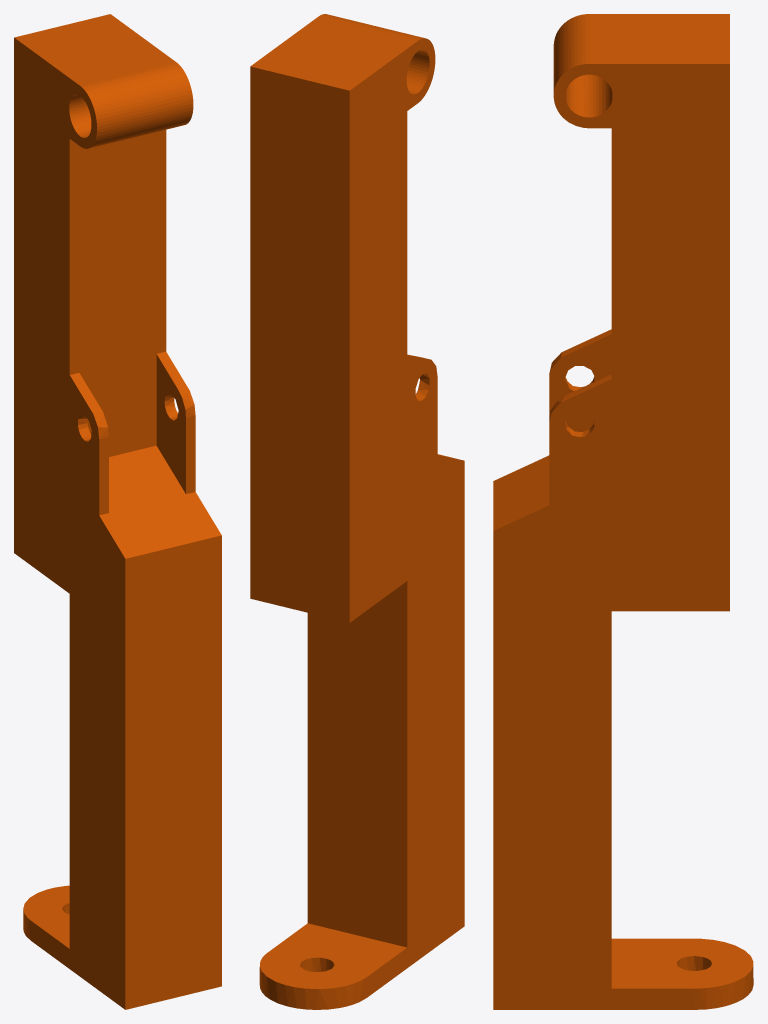
Rendered from Dreharm.dae.
The picture shows the model from 3 angles, left to right: view 1: azimuth 30°, elevation 25°; view 2: azimuth 150°, elevation 25°; view 3: azimuth 270°, elevation 25°; orthographic projection. The views are drawn at different scales.
Parts seen in each view (by area): view 1: node; view 2: node; view 3: node.
Boxes of the visible parts, bbox=[...] form: node: bbox=[14, 14, 221, 1009]; node: bbox=[250, 14, 464, 1009]; node: bbox=[493, 14, 753, 1009].
Size of the model in its own units: 0.1 by 0.22 by 0.883.
